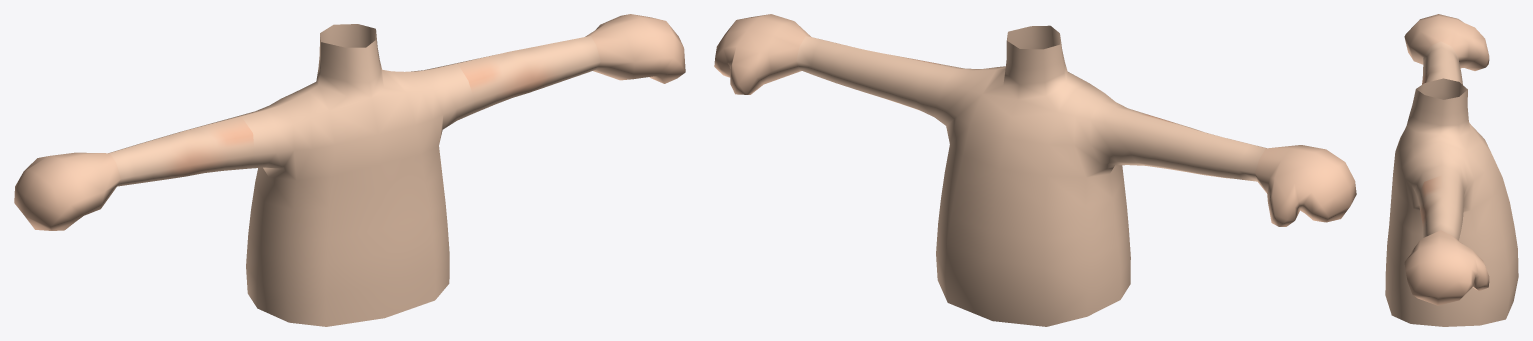
File: Body_Top_1.fbx
3 renders of one model, left to right at view 1: azimuth 30°, elevation 25°; view 2: azimuth 150°, elevation 25°; view 3: azimuth 270°, elevation 25°, orthographic. The views are drawn at different scales.
Visible parts, largest first — view 1: Body_Top_1; view 2: Body_Top_1; view 3: Body_Top_1.
Part boxes in pixels (x1,y1,x2,y2): Body_Top_1: [14, 14, 685, 326]; Body_Top_1: [714, 14, 1356, 326]; Body_Top_1: [1385, 14, 1518, 326].
Size of the model in its own units: 131 by 50.32 by 28.57.
